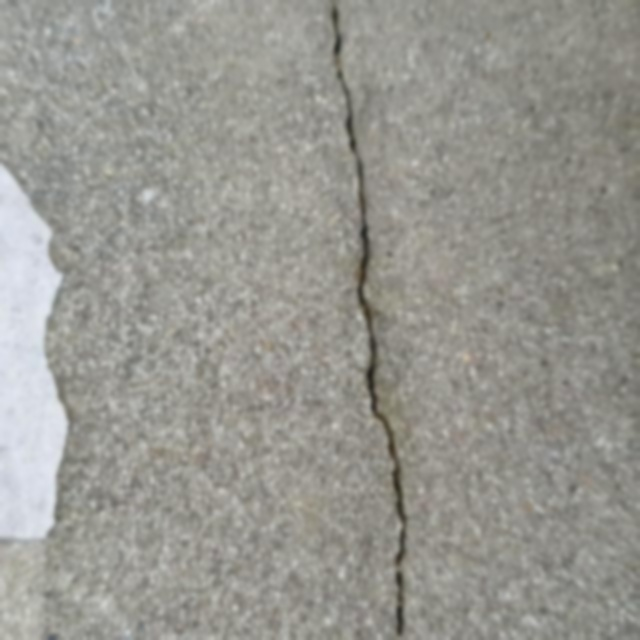SurfaceCrack: (282, 0, 450, 640), (0, 9, 125, 639)
